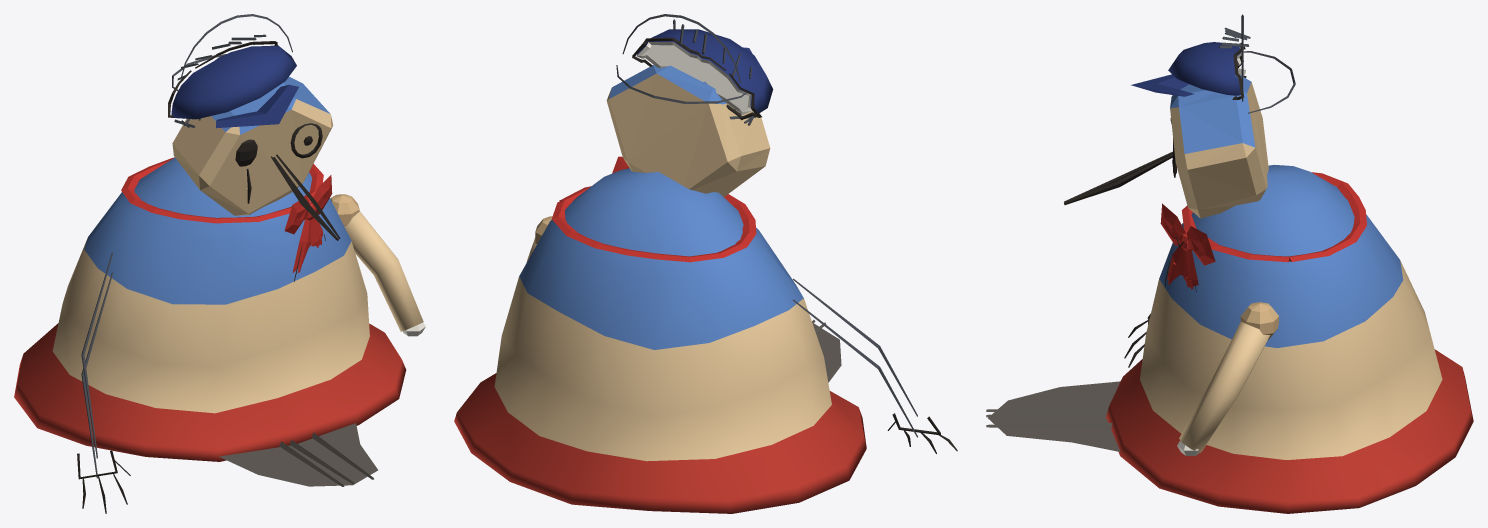
The model's file is Lump_Brother.fbx.
3 views of the same model, side by side, from view 1: azimuth 30°, elevation 25°; view 2: azimuth 150°, elevation 25°; view 3: azimuth 270°, elevation 25° (orthographic). The views are drawn at different scales.
Parts seen in each view (by area): view 1: Body, Lines, Cord, Nose; view 2: Body, Lines, Cord; view 3: Body, Lines, Cord, Nose.
Part boxes in pixels (x1,y1,x2,y2): Body: (14, 45, 425, 461); Lines: (77, 14, 377, 513); Cord: (121, 157, 332, 272); Nose: (271, 154, 340, 240); Body: (454, 29, 866, 513); Lines: (616, 14, 957, 453); Cord: (552, 156, 756, 262); Body: (1106, 42, 1473, 513); Lines: (986, 14, 1295, 451); Cord: (1160, 172, 1366, 289); Nose: (1064, 151, 1172, 204).
Bounding box in the file's own units: 0.8055 × 0.832 × 0.8462.
